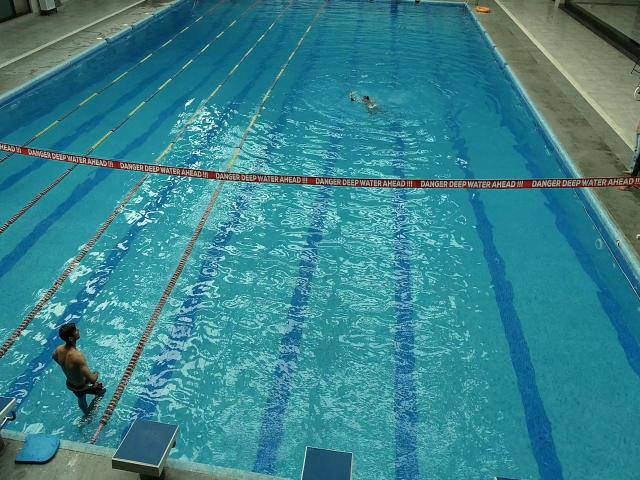drowning: (349, 92, 379, 118)
swimming: (52, 323, 106, 413)
